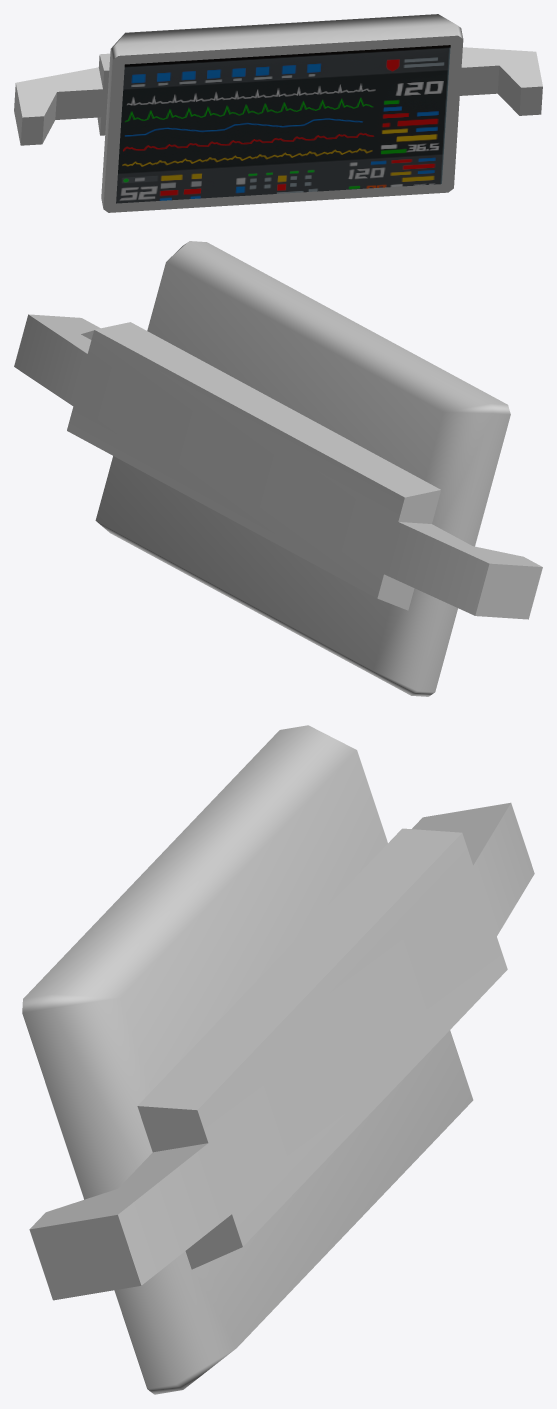
The model's file is Monitor_05_Part_04.fbx.
The picture shows the model from 3 angles, top to bottom: view 1: azimuth 30°, elevation 25°; view 2: azimuth 150°, elevation 25°; view 3: azimuth 270°, elevation 25°; orthographic projection. The views are drawn at different scales.
Parts seen in each view (by area): view 1: Monitor_05_Part_04; view 2: Monitor_05_Part_04; view 3: Monitor_05_Part_04.
Part boxes in pixels (bbox=[...]): Monitor_05_Part_04: bbox=[14, 14, 542, 212]; Monitor_05_Part_04: bbox=[14, 241, 542, 696]; Monitor_05_Part_04: bbox=[22, 725, 534, 1394].
Size of the model in its own units: 93.66 by 47.05 by 38.8.
